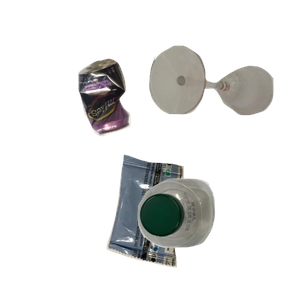glass: (147, 43, 300, 151)
metal: (75, 56, 198, 185)
plastic: (135, 176, 300, 300)
trash: (104, 152, 280, 300)
